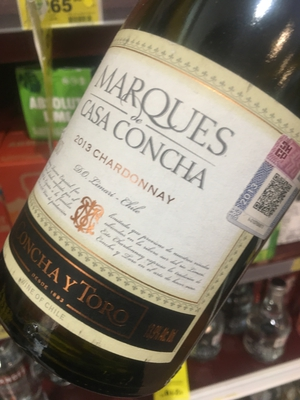marques de casa concha chardonnay: (10, 17, 296, 400)
